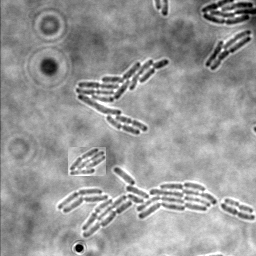Dividing: (219, 204, 255, 222), (223, 199, 253, 215)
Microcolony: (57, 167, 216, 238), (75, 59, 169, 136), (204, 30, 251, 72), (200, 1, 255, 26), (68, 147, 106, 176)
